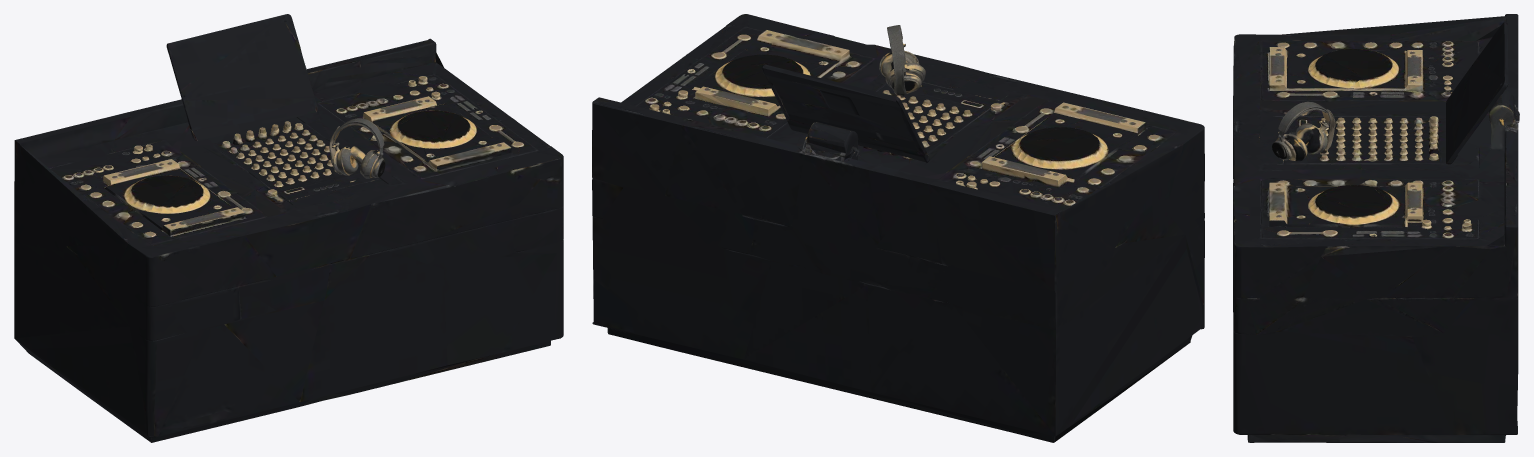
File: djBooth.glb
3 renders of one model, left to right at view 1: azimuth 30°, elevation 25°; view 2: azimuth 150°, elevation 25°; view 3: azimuth 270°, elevation 25°, orthographic. The views are drawn at different scales.
Size of the model in its own units: 1.9 by 1.21 by 1.08.
Materials: 1 (1 with a texture image).
